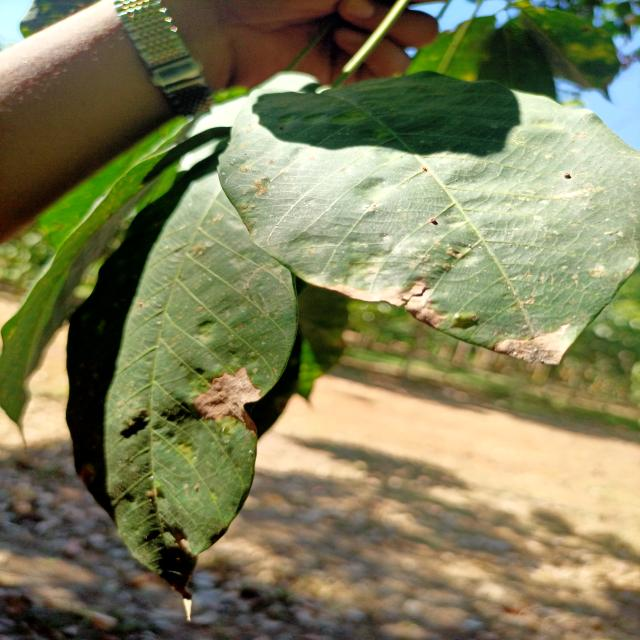Leaf-Blight: (328, 280, 442, 329), (191, 366, 261, 434), (494, 321, 570, 366)
